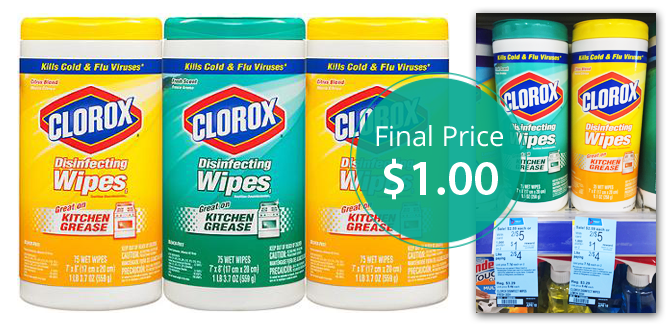Wipes: (303, 12, 455, 312), (14, 11, 165, 310), (161, 11, 305, 313), (487, 16, 573, 215), (566, 17, 651, 213)
